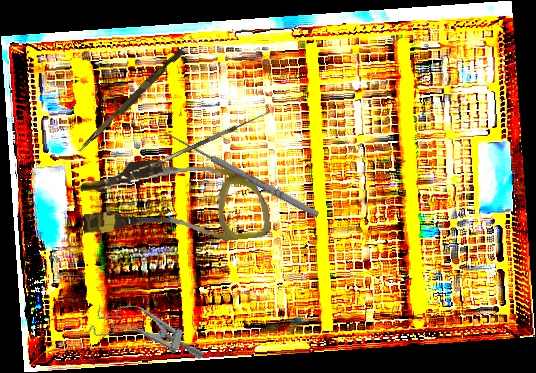Cannula: (76, 148, 272, 256)
Hook Surgical: (159, 128, 321, 225), (160, 105, 272, 162)
Pusher: (77, 45, 185, 157)
Speculum: (87, 294, 212, 368)
